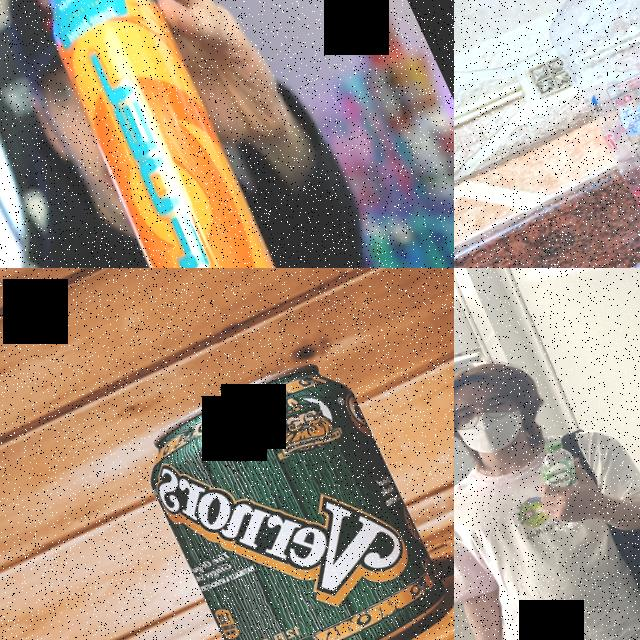bottle: (497, 0, 640, 268), (516, 436, 600, 536)
can: (130, 343, 454, 640), (10, 0, 358, 268)
